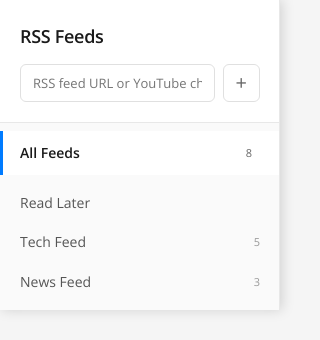
FeedList › should enter edit mode on double click
Double-click the text "Tech Feed".
double_click(53, 242)  # box [20,232,86,251]
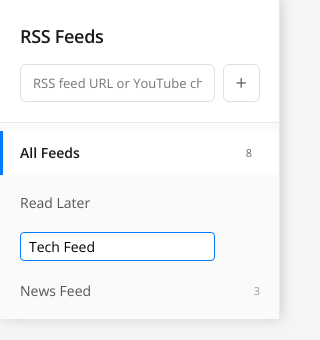
Result: the field showing "Tech Feed" is shown at [20,232,215,261]
